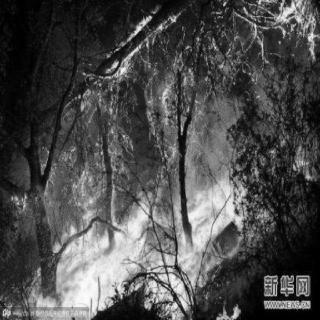Fire: (24, 7, 318, 315)
